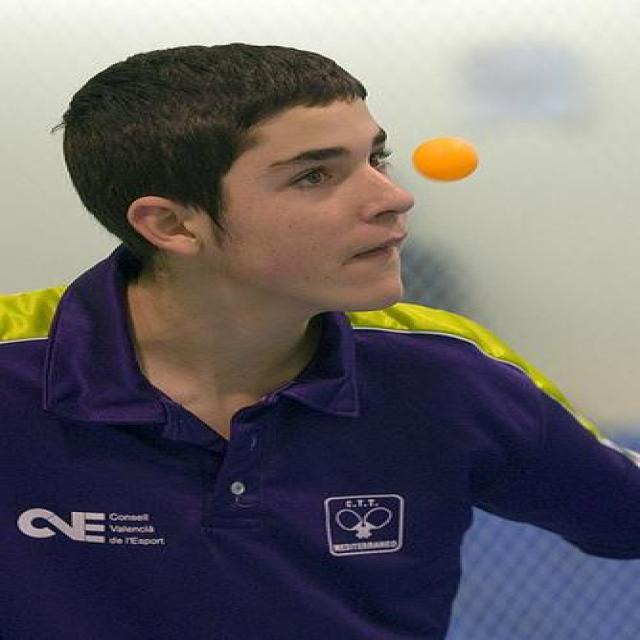ping-pong-ball: (411, 136, 479, 182)
